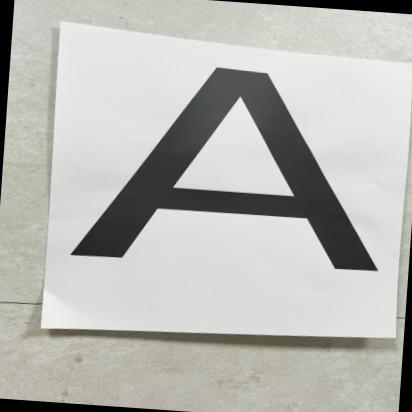seat: (60, 38, 400, 281)
